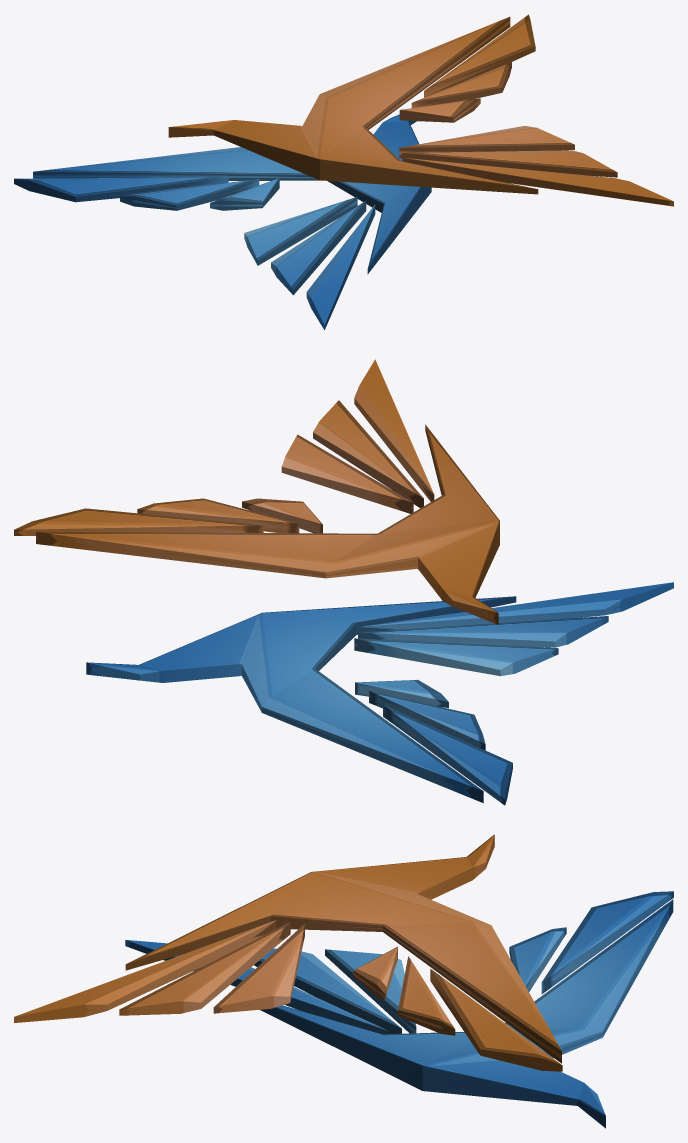
File: calibri_duo.gltf
3 views of the same model, one above another, from view 1: azimuth 30°, elevation 25°; view 2: azimuth 150°, elevation 25°; view 3: azimuth 270°, elevation 25° (orthographic). The views are drawn at different scales.
Visible parts, largest first — view 1: calibri_logo_orange:PIV, calibri_logo:PIV; view 2: calibri_logo:PIV, calibri_logo_orange:PIV; view 3: calibri_logo_orange:PIV, calibri_logo:PIV.
Part boxes in pixels (x1,y1,x2,y2): calibri_logo_orange:PIV: (168, 14, 673, 206); calibri_logo:PIV: (14, 114, 431, 329); calibri_logo:PIV: (86, 582, 673, 805); calibri_logo_orange:PIV: (14, 359, 499, 624); calibri_logo_orange:PIV: (14, 834, 562, 1071); calibri_logo:PIV: (125, 891, 673, 1128).
Bounding box in the file's own units: 11.69 × 2.5 × 11.85.
Materials: 2 (2 with a texture image).
